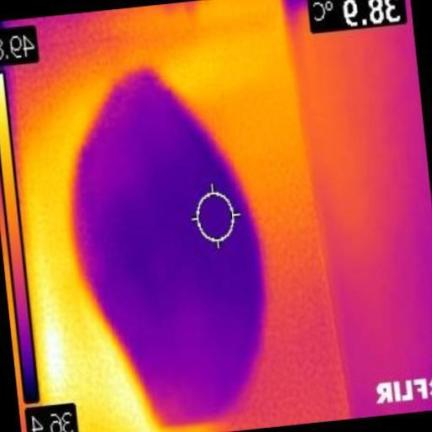mango: (76, 69, 265, 426)
